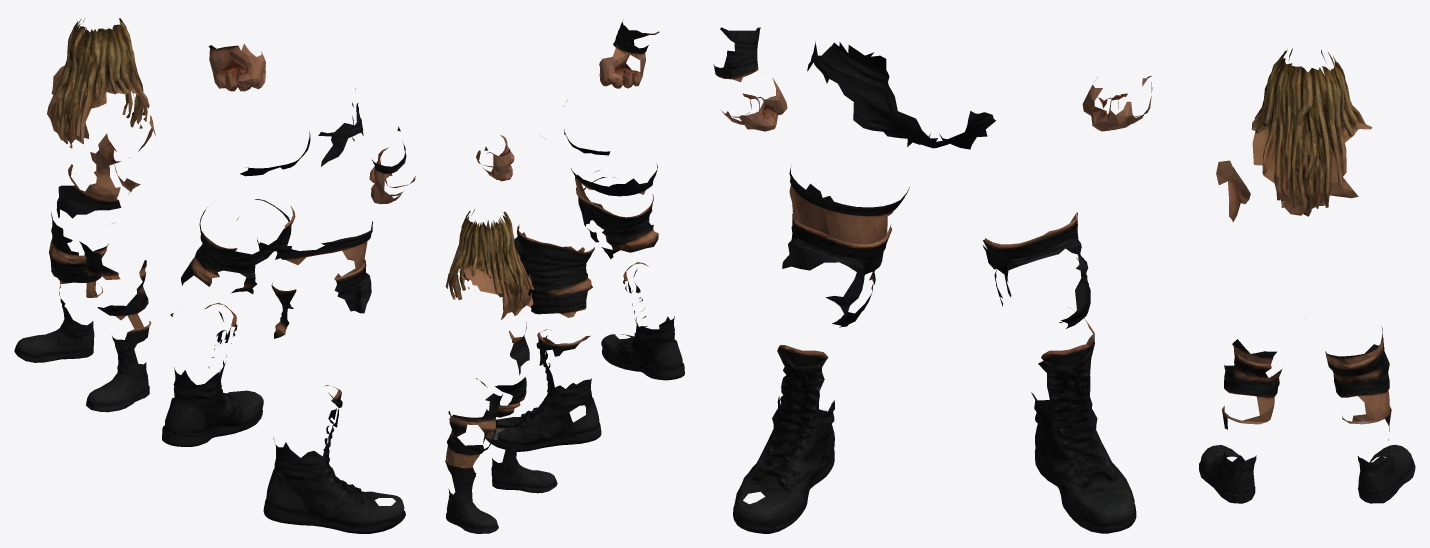
Rendered from BANNON_v2_split.glb.
3 renders of one model, left to right at view 1: azimuth 30°, elevation 25°; view 2: azimuth 150°, elevation 25°; view 3: azimuth 270°, elevation 25°, orthographic. The views are drawn at different scales.
Visible parts, largest first — view 1: tripo_mesh_f8bae5d8-72c1-44f4-9b6f-774b74750e5b; view 2: tripo_mesh_f8bae5d8-72c1-44f4-9b6f-774b74750e5b; view 3: tripo_mesh_f8bae5d8-72c1-44f4-9b6f-774b74750e5b.
Part boxes in pixels (x1,y1,x2,y2): tripo_mesh_f8bae5d8-72c1-44f4-9b6f-774b74750e5b: (14, 18, 415, 533); tripo_mesh_f8bae5d8-72c1-44f4-9b6f-774b74750e5b: (445, 19, 684, 533); tripo_mesh_f8bae5d8-72c1-44f4-9b6f-774b74750e5b: (713, 27, 1415, 533).
Size of the model in its own units: 0.3696 by 1.04 by 1.32.
Materials: 1 (1 with a texture image).
